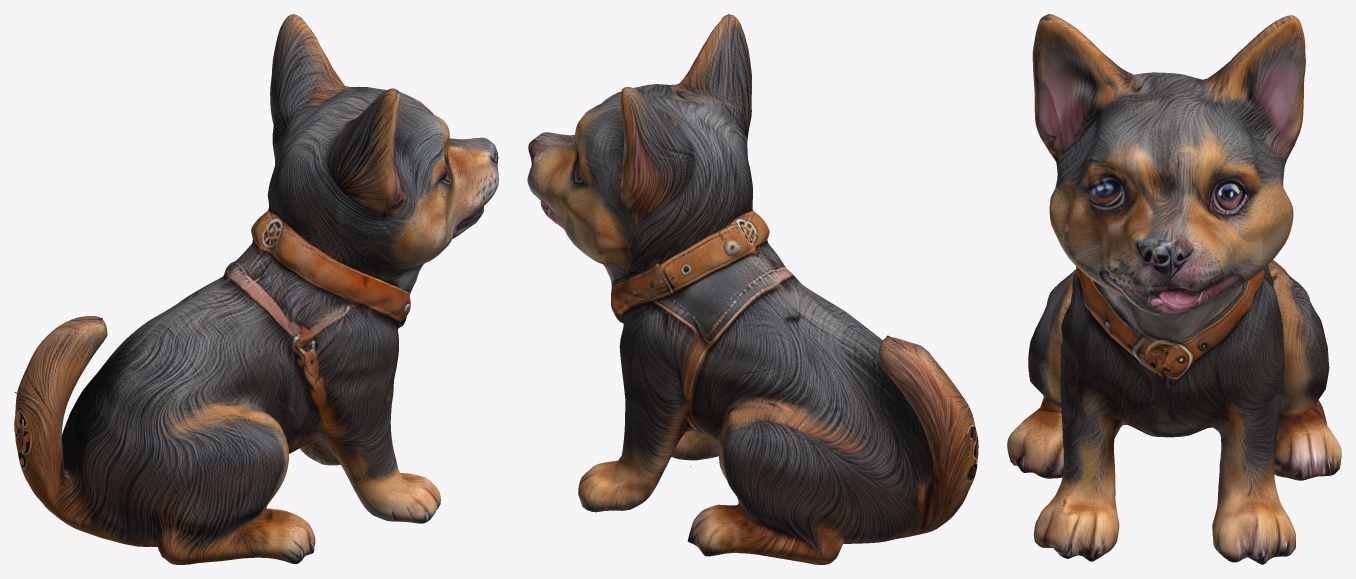
The model's file is doggie.glb.
3 renders of one model, left to right at view 1: azimuth 30°, elevation 25°; view 2: azimuth 150°, elevation 25°; view 3: azimuth 270°, elevation 25°, orthographic. The views are drawn at different scales.
Bounding box in the file's own units: 1.2 × 1.11 × 0.6394.
Materials: 1 (1 with a texture image).
